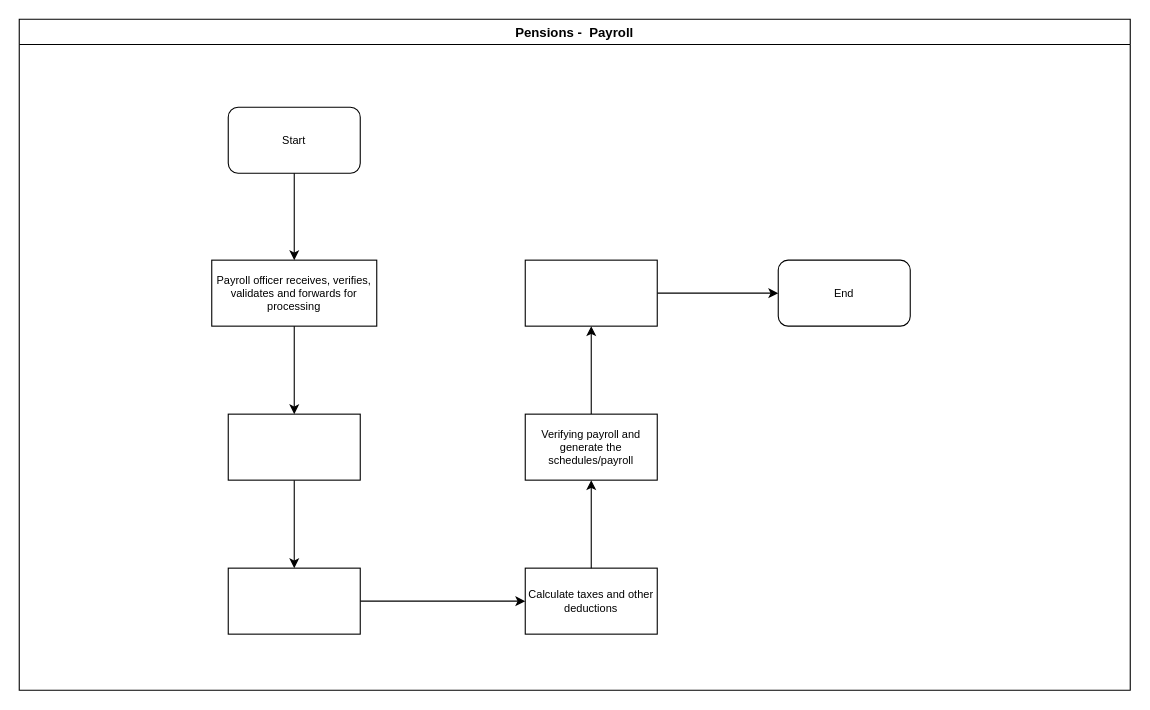
The diagram is 1150 pixels wide and 710 high, and some of its shapes have lost their labels. The centre of each missing label's shape, as x and y in pixels:
"Calculate gross pay" goes at point 293,600.
"Forward for approval" goes at point 590,292.
"Records are received" goes at point 293,446.
